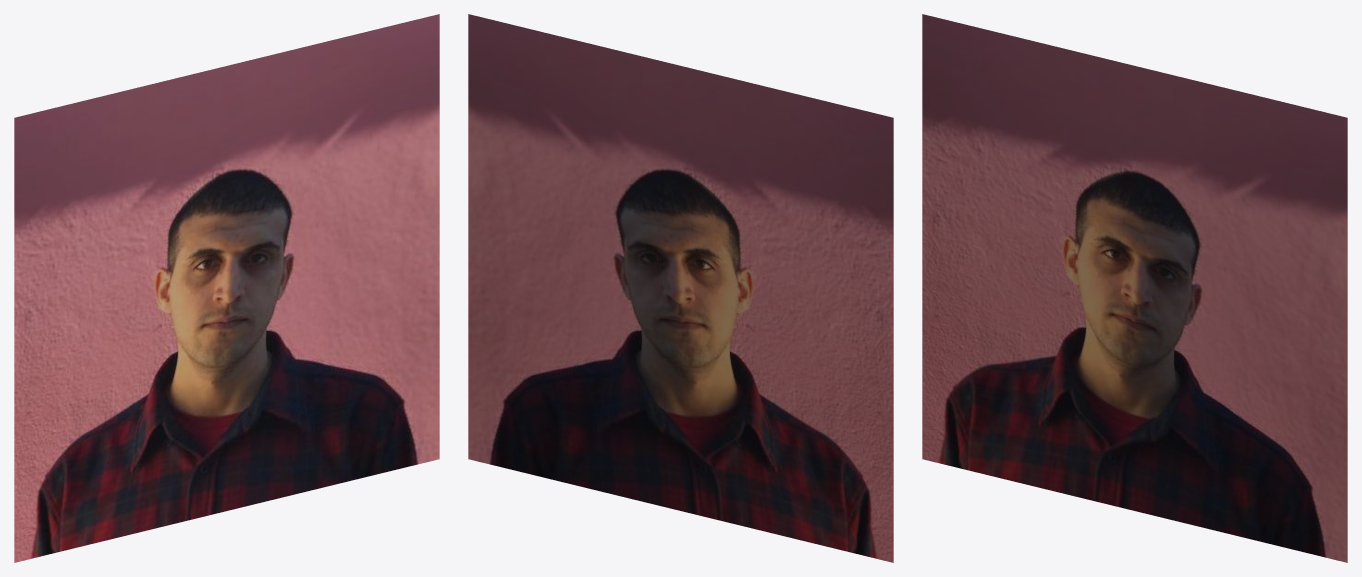
The model's file is jeffPic.dae.
The picture shows the model from 3 angles, left to right: view 1: azimuth 30°, elevation 25°; view 2: azimuth 150°, elevation 25°; view 3: azimuth 330°, elevation 25°; orthographic projection.
Parts seen in each view (by area): view 1: Background_Mesh; view 2: Background_Mesh; view 3: Background_Mesh.
Part boxes in pixels (<box>): Background_Mesh: <box>14,14,439,562</box>; Background_Mesh: <box>468,14,893,562</box>; Background_Mesh: <box>922,14,1347,562</box>.
Size of the model in its own units: 6.39 by 6.39 by 0.
1 material, 1 textured.
